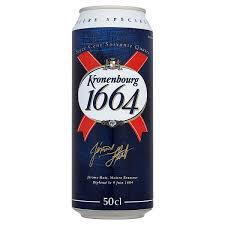beer: (70, 5, 158, 218)
